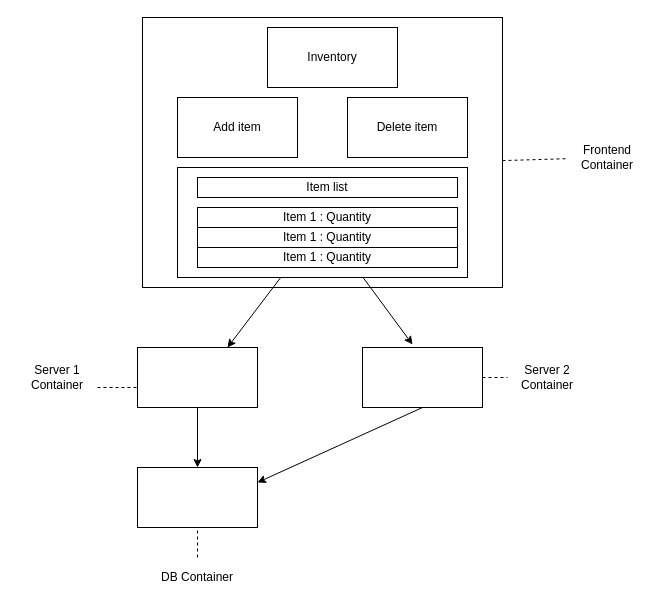
Image size: 664x615. Some labels were removed from this diagram. The box of each missing label's shape, as (x1, y1, x2, y2) in pixels:
Add/Delete item: (136, 346, 258, 408)
DB: (136, 466, 258, 528)
Get item list: (362, 346, 482, 408)
